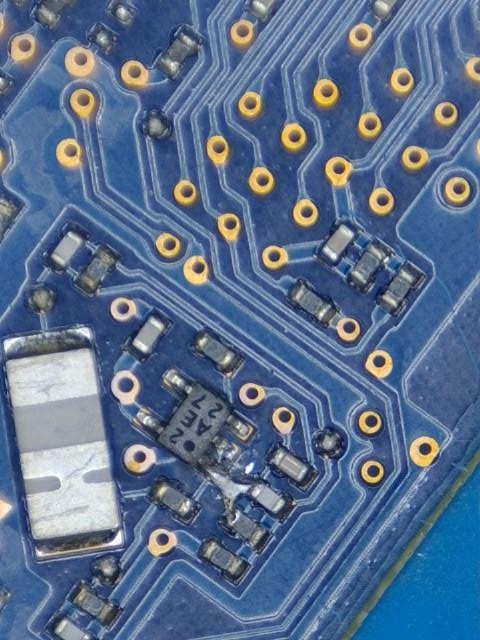pcb_defect: (204, 442, 265, 526)
